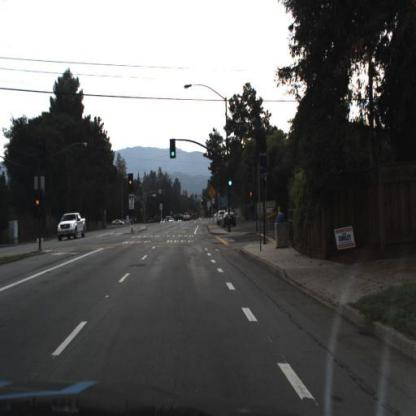car: (57, 213, 86, 242)
trafficLight: (258, 136, 266, 165)
trafficLight-Green: (227, 169, 234, 191), (170, 141, 177, 159)
trafficLight-YellowLeft: (37, 194, 42, 217), (128, 173, 133, 196)
